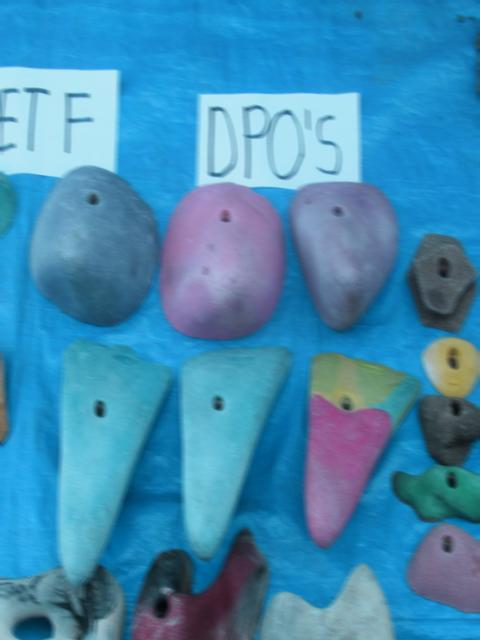crimp: (406, 233, 477, 332), (422, 336, 480, 397)
sloper: (29, 166, 161, 325), (159, 183, 286, 338), (288, 182, 399, 329)
undercling: (58, 339, 172, 585), (180, 346, 292, 560), (304, 394, 391, 545)
